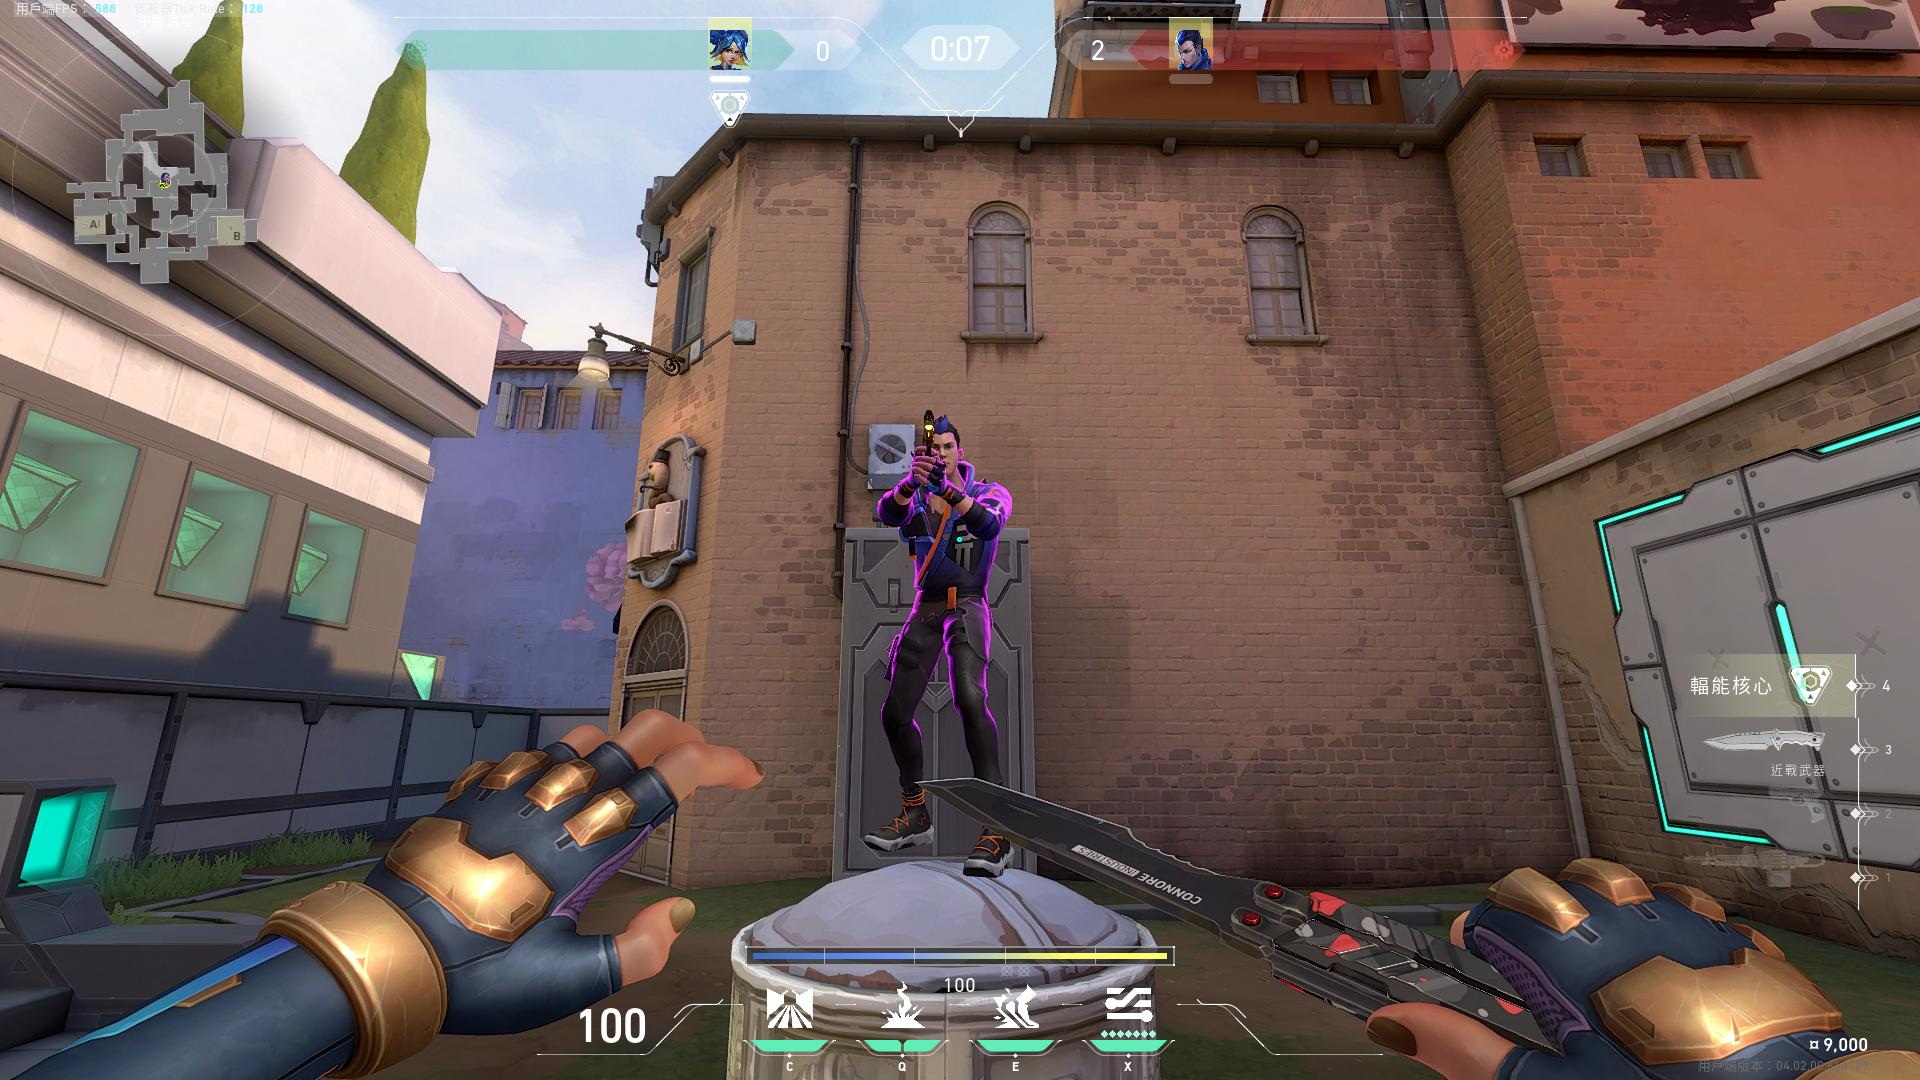enemyBody: (928, 491, 980, 574)
enemyHead: (923, 425, 969, 477)
